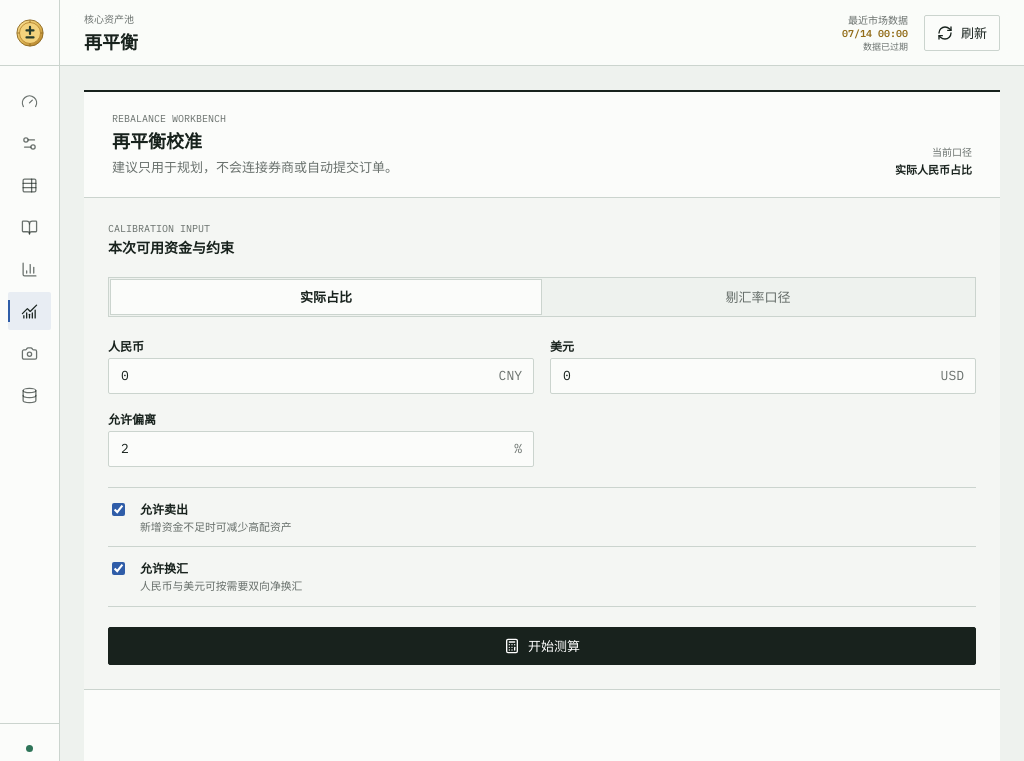
Scenario: AppShell › clears the displayed rebalance preview and plan after a topbar market refresh
Click the button "开始测算" at (542, 646), box [108,627,976,665]
(page scrolled)
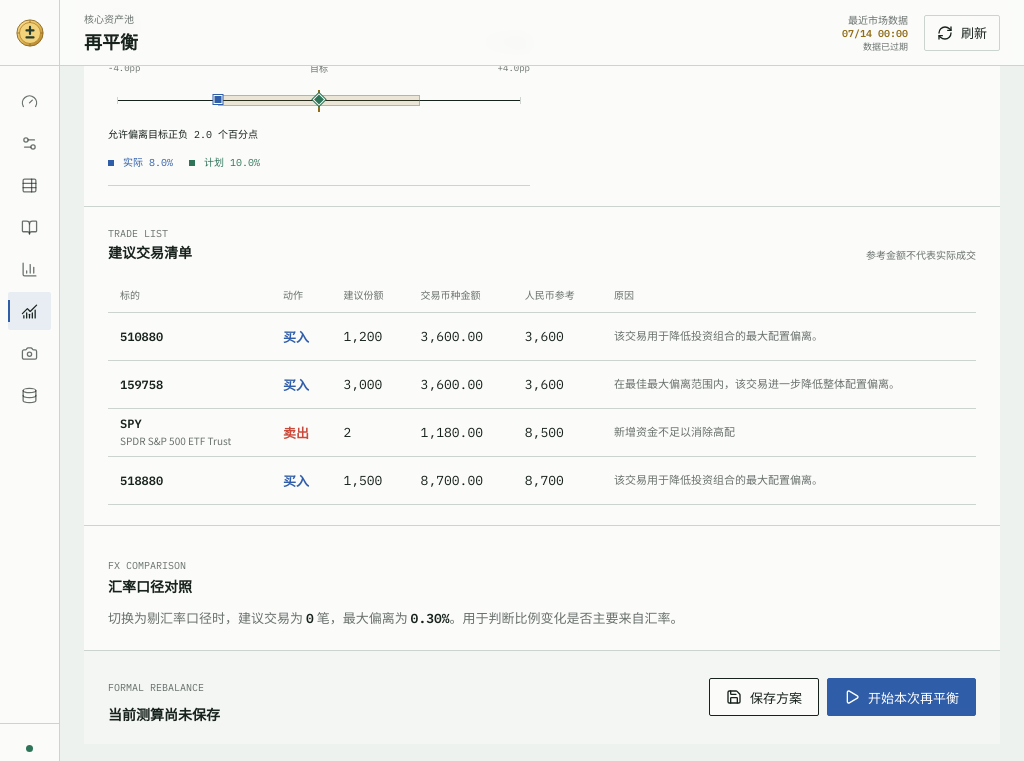
Click the button "保存方案" at (764, 697), box [709,678,819,716]
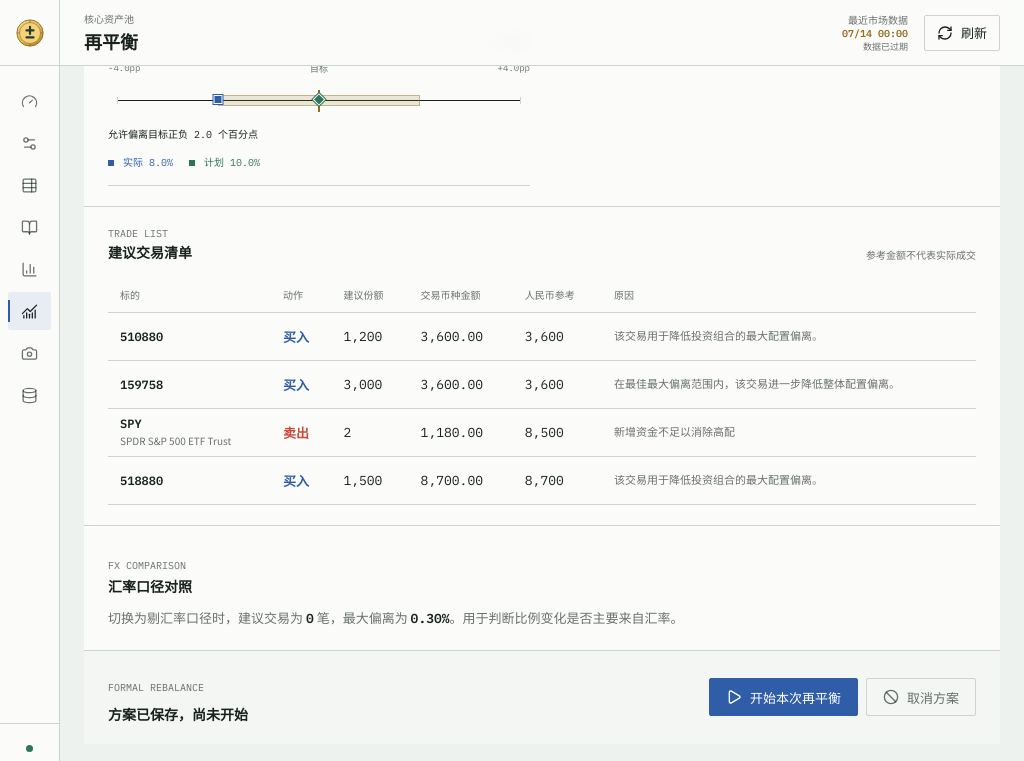
Now the heading "方案已保存，尚未开始" is shown, box [108,704,248,724]
Click the button "刷新" at (962, 32), box [924,14,1000,50]
(page scrolled)
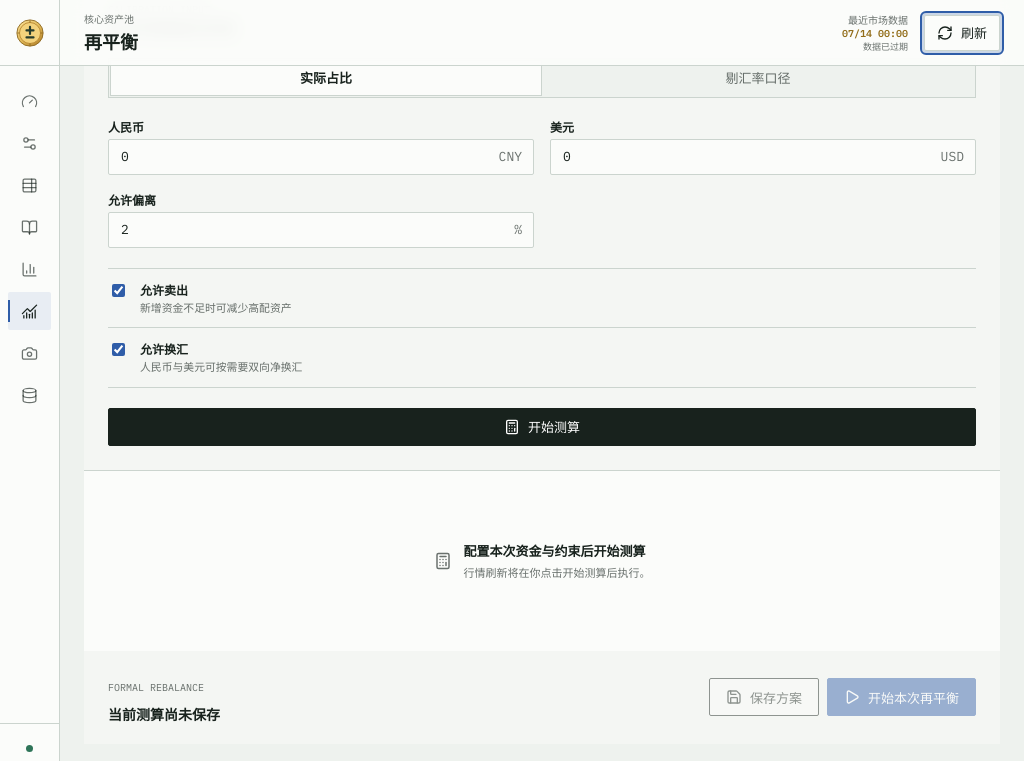
Now the text "配置本次资金与约束后开始测算" is shown, box [464,541,650,560]
Now the heading "方案已保存，尚未开始" is gone
Now the button "保存方案" is disabled, box [709,678,819,716]
